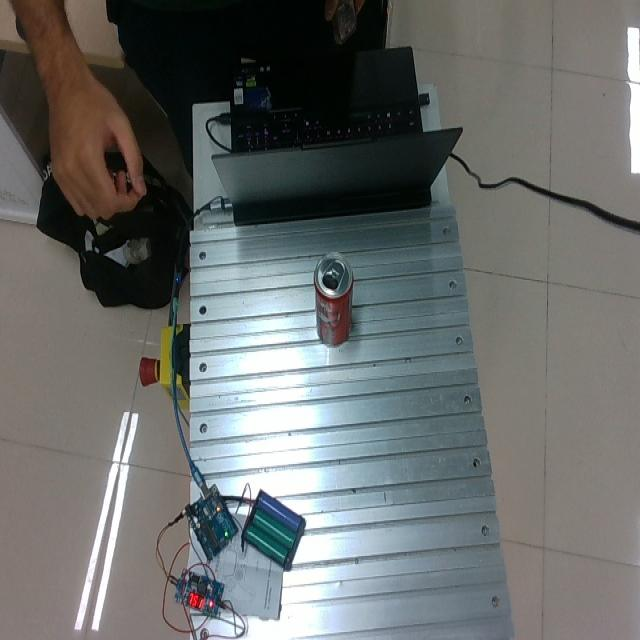coca: (312, 250, 353, 346)
